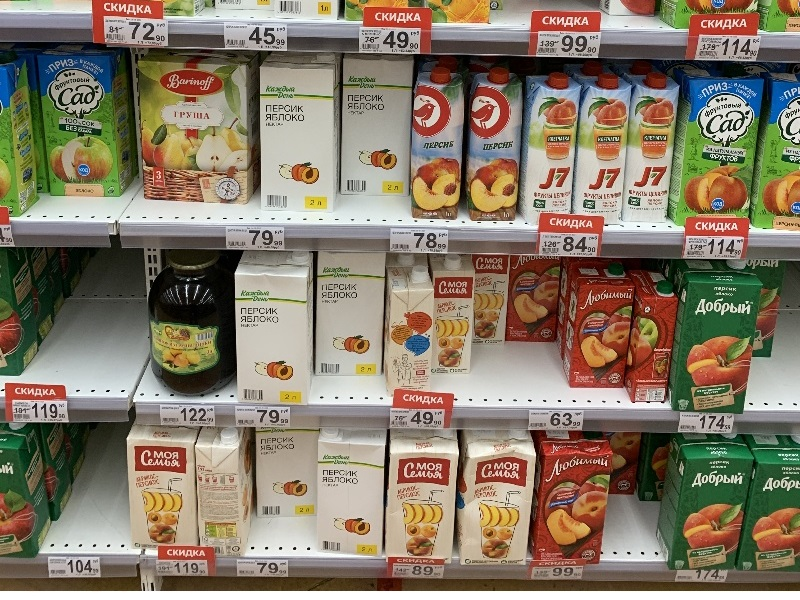juice: (25, 44, 147, 201), (664, 257, 763, 421), (651, 432, 760, 574), (672, 63, 762, 227), (524, 428, 623, 571), (406, 66, 476, 230), (460, 68, 527, 235), (621, 71, 684, 233), (523, 69, 585, 222), (562, 264, 634, 391), (580, 74, 627, 227)
